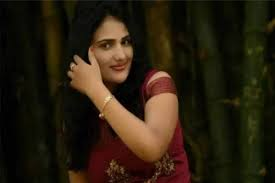indian_female: (65, 1, 159, 95)
